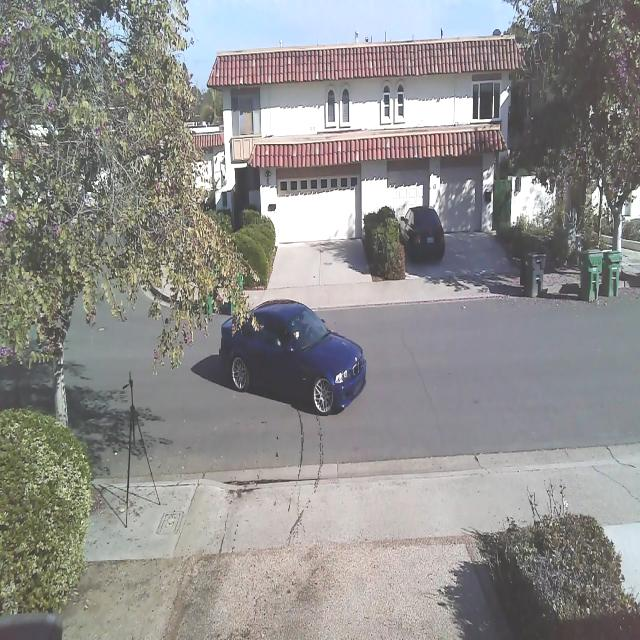Carbeetle: (215, 288, 369, 420)
Civilian: (399, 205, 446, 264)
